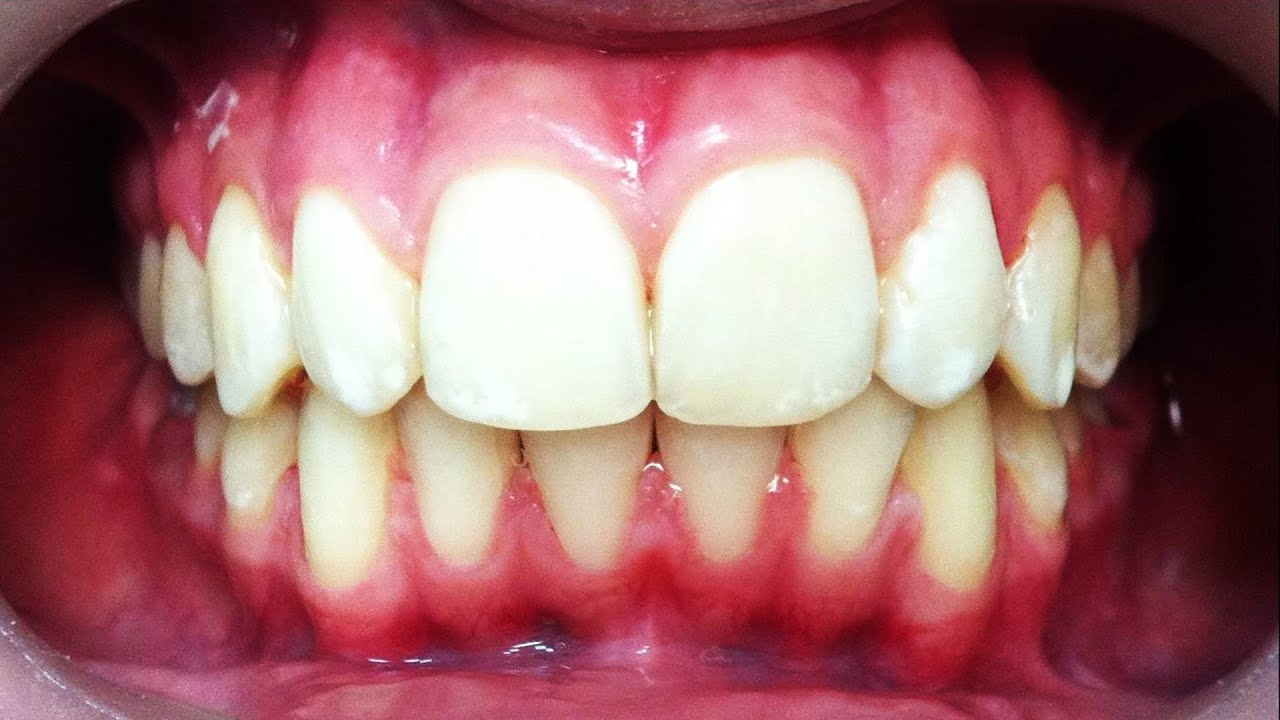LL1BC_healthy: (1003, 408, 1077, 541)
LLCI_healthy: (658, 426, 787, 571)
LLC_healthy: (906, 419, 1001, 595)
LLLI_healthy: (786, 422, 903, 569)
LR1BC_healthy: (216, 419, 295, 544)
LRCI_healthy: (521, 433, 655, 574)
LRC_healthy: (293, 416, 397, 603)
LRLI_healthy: (400, 429, 519, 570)
ULCI_healthy: (650, 159, 873, 428)
ULC_healthy: (1001, 167, 1079, 411)
ULLI_healthy: (870, 158, 1000, 411)
URCI_healthy: (424, 164, 652, 431)
URC_healthy: (203, 179, 295, 420)
URLI_healthy: (290, 180, 425, 418)
